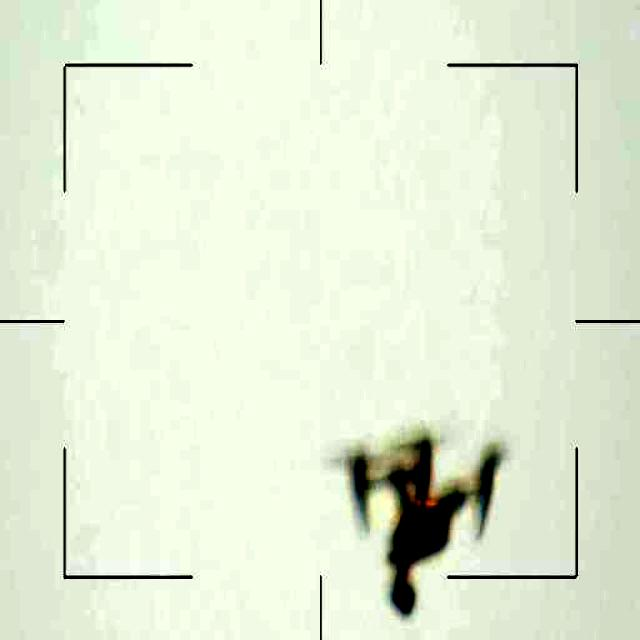bird: (340, 420, 516, 619)
